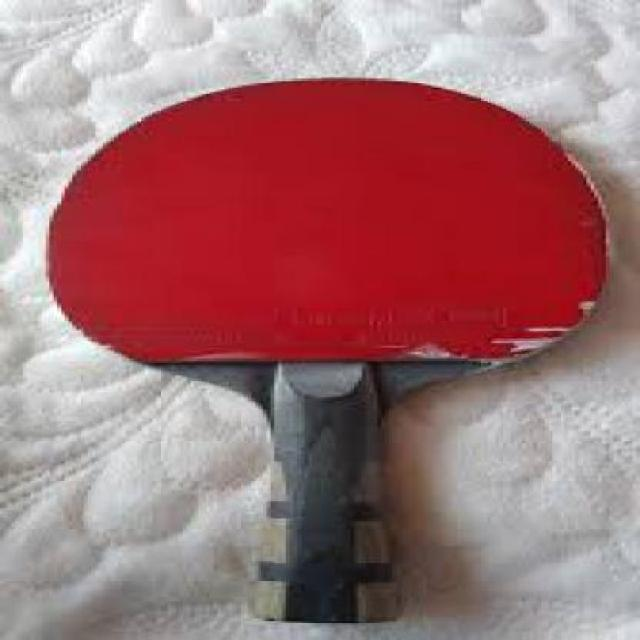table_tennis_racket: (34, 74, 628, 394)
